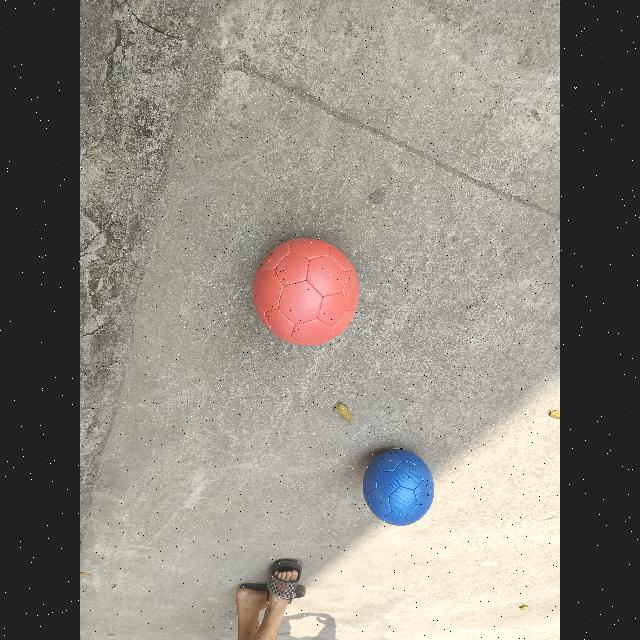B: (362, 446, 435, 524)
R: (252, 234, 360, 345)
